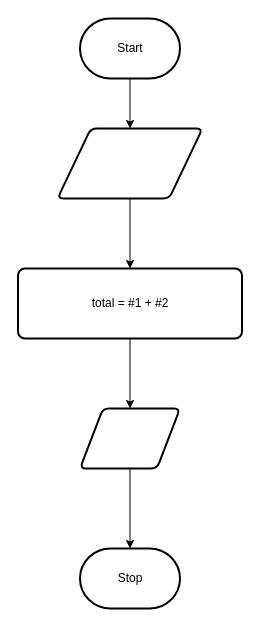
Some shapes in this 260 by 626 pixel diagram are drawn without their labels. Each missing label, with the centre of its shape:
"Enter the first and second number" goes at (x=129, y=163).
"Show total" goes at (x=129, y=438).
